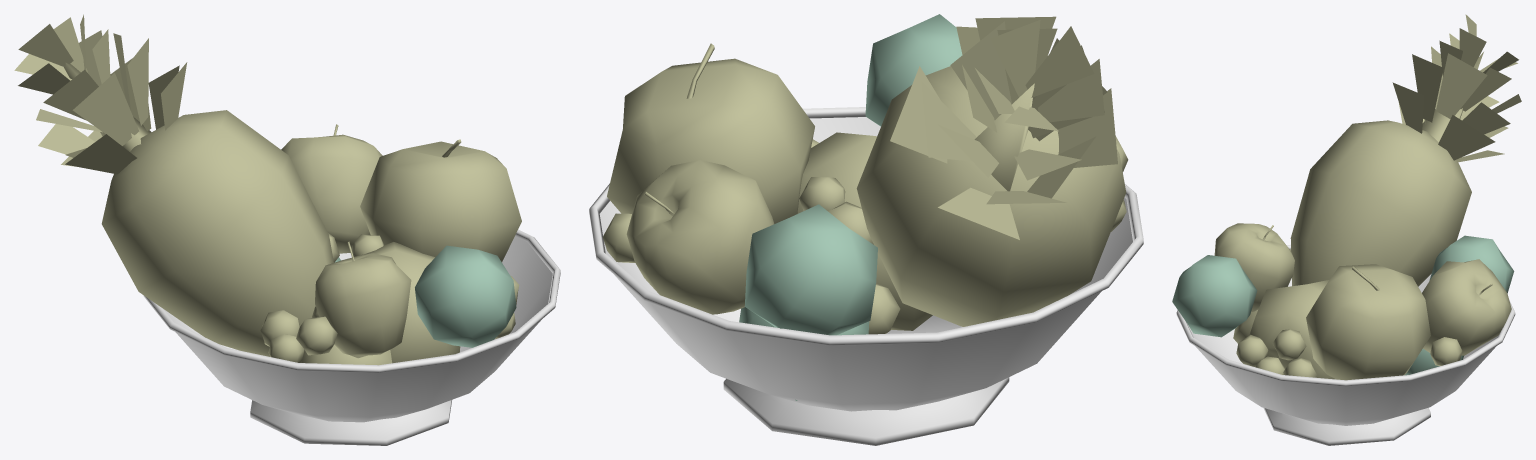
File: ZSXGPJSG03.FBX
3 views of the same model, side by side, from view 1: azimuth 30°, elevation 25°; view 2: azimuth 150°, elevation 25°; view 3: azimuth 270°, elevation 25° (orthographic). The views are drawn at different scales.
Visible parts, largest first — view 1: ZSXGPJSG03; view 2: ZSXGPJSG03; view 3: ZSXGPJSG03.
Part boxes in pixels (x1=…): ZSXGPJSG03: x1=14, y1=14, x2=560, y2=445; ZSXGPJSG03: x1=589, y1=14, x2=1143, y2=445; ZSXGPJSG03: x1=1172, y1=14, x2=1521, y2=445.
Size of the model in its own units: 893 by 740 by 765.
